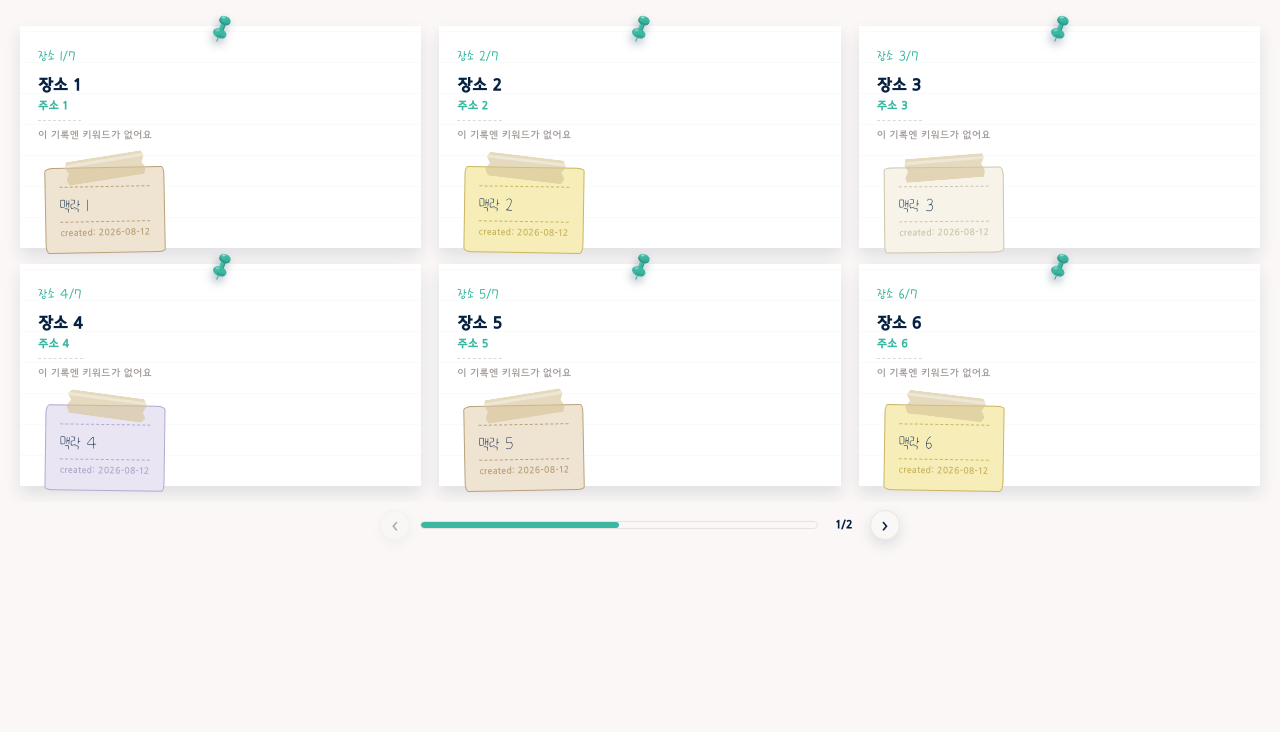
SearchResultGallery › 운영체제 스크롤바 설정과 무관한 6개 단위 탐색 컨트롤을 제공한다
Expected: the button named "이전 검색 결과 6개" is disabled, [380,510,410,540]
Expected: the text "1/2" is shown, [835,519,853,530]
Click the button named "다음 검색 결과 6개" at (885, 525), box [870,510,900,540]
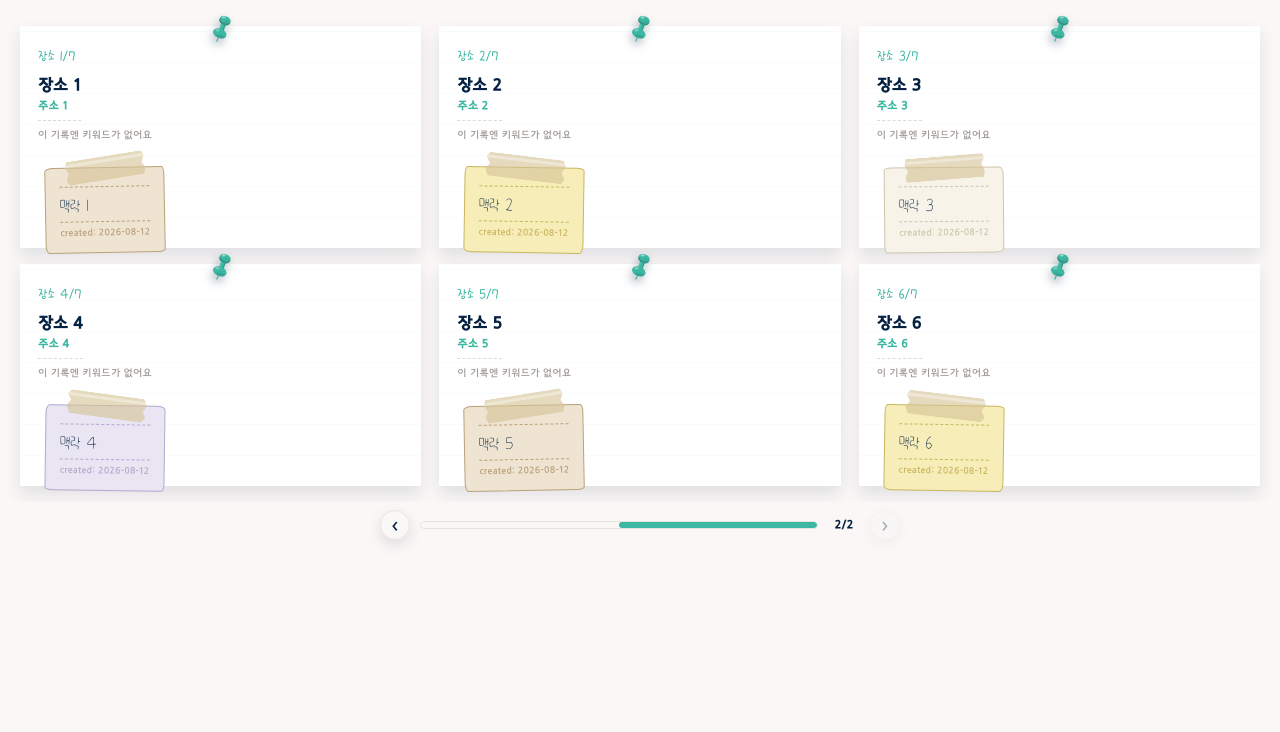
Expected: the button named "이전 검색 결과 6개" is enabled, [380,510,410,540]
Result: the text "2/2" is shown at [835,519,853,530]
